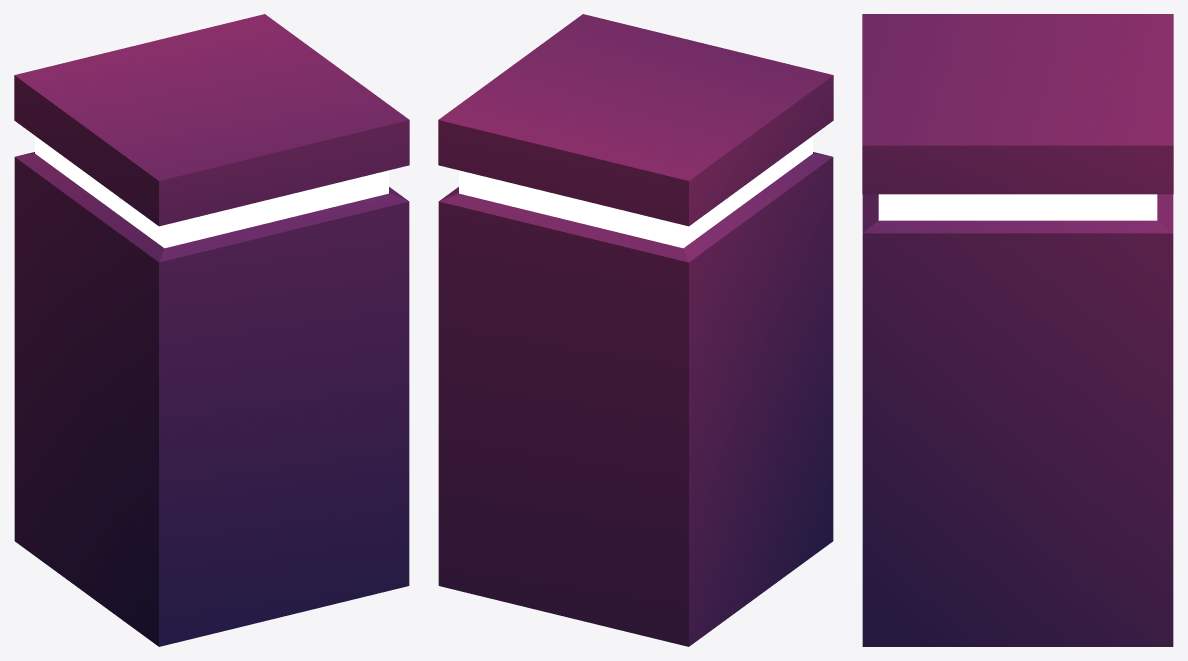
The model's file is FBX_Building_002.fbx.
The picture shows the model from 3 angles, left to right: view 1: azimuth 30°, elevation 25°; view 2: azimuth 150°, elevation 25°; view 3: azimuth 270°, elevation 25°; orthographic projection. The views are drawn at different scales.
Visible parts, largest first — view 1: Cube.015, Cube.016; view 2: Cube.015, Cube.016; view 3: Cube.015, Cube.016.
Boxes of the visible parts, <box> form: Cube.015: <box>14,14,409,646</box>; Cube.016: <box>35,136,388,248</box>; Cube.015: <box>438,14,833,646</box>; Cube.016: <box>459,136,812,248</box>; Cube.015: <box>862,14,1173,646</box>; Cube.016: <box>878,194,1157,220</box>.
Bounding box in the file's own units: 374 × 664 × 374.
Materials: 2 (1 with a texture image).
